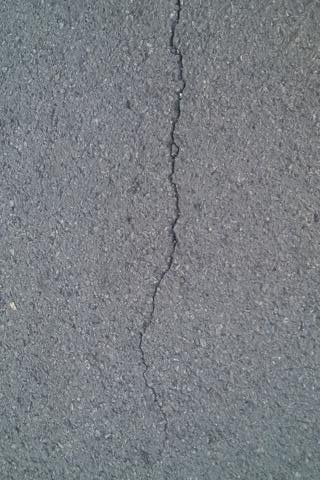A: (138, 1, 190, 454)
